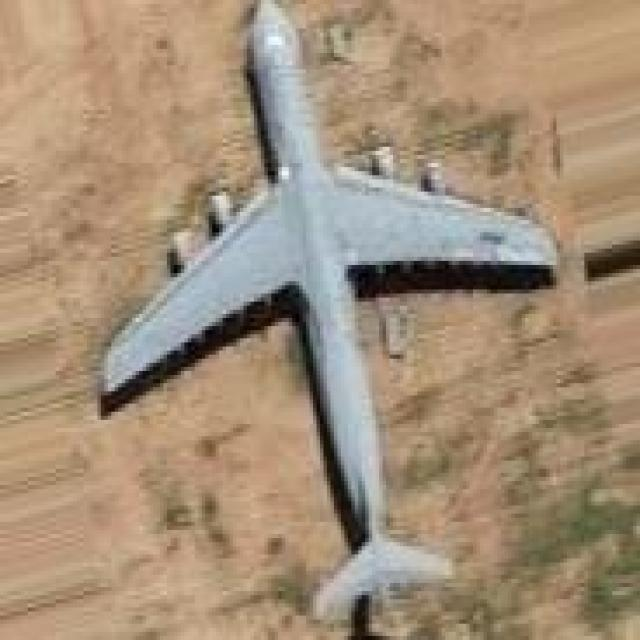C-5_TopDown: (97, 0, 564, 640)
